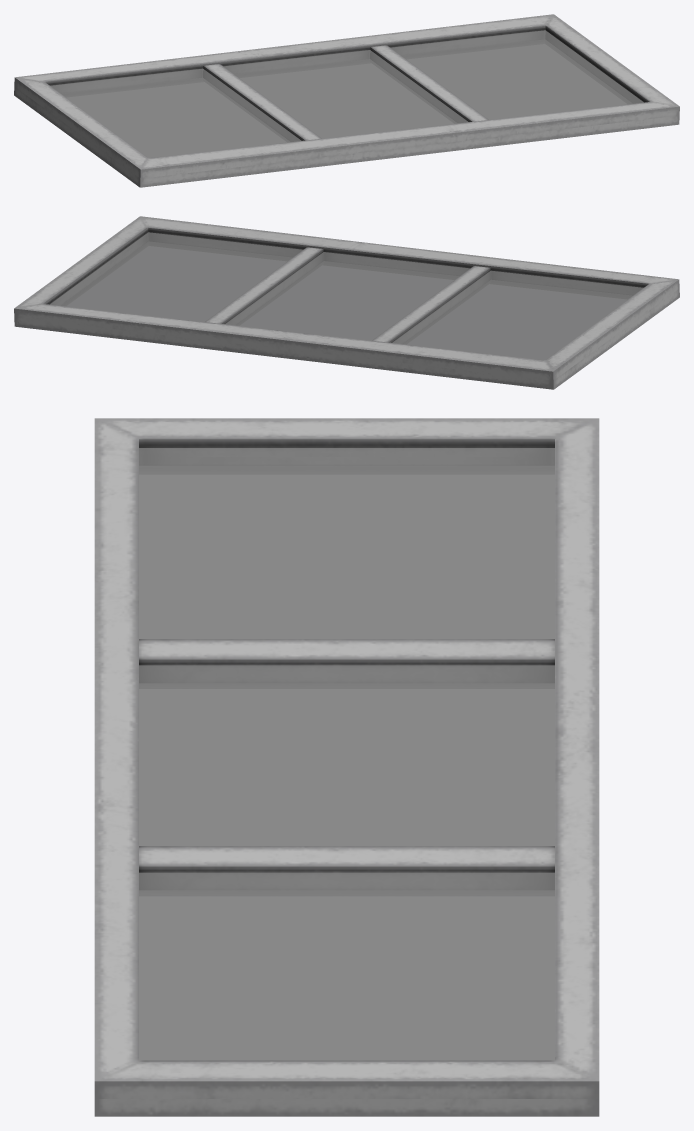
The model's file is Warehouse Roof Window.fbx.
3 views of the same model, one above another, from view 1: azimuth 30°, elevation 25°; view 2: azimuth 150°, elevation 25°; view 3: azimuth 270°, elevation 25° (orthographic). The views are drawn at different scales.
Visible parts, largest first — view 1: Warehouse_Roof_Window; view 2: Warehouse_Roof_Window; view 3: Warehouse_Roof_Window.
Boxes of the visible parts, left/top/right/bottom form: Warehouse_Roof_Window: left=14, top=14, right=679, bottom=187; Warehouse_Roof_Window: left=14, top=216, right=679, bottom=389; Warehouse_Roof_Window: left=94, top=418, right=599, bottom=1116.
Bounding box in the file's own units: 393 × 60.08 × 159.
